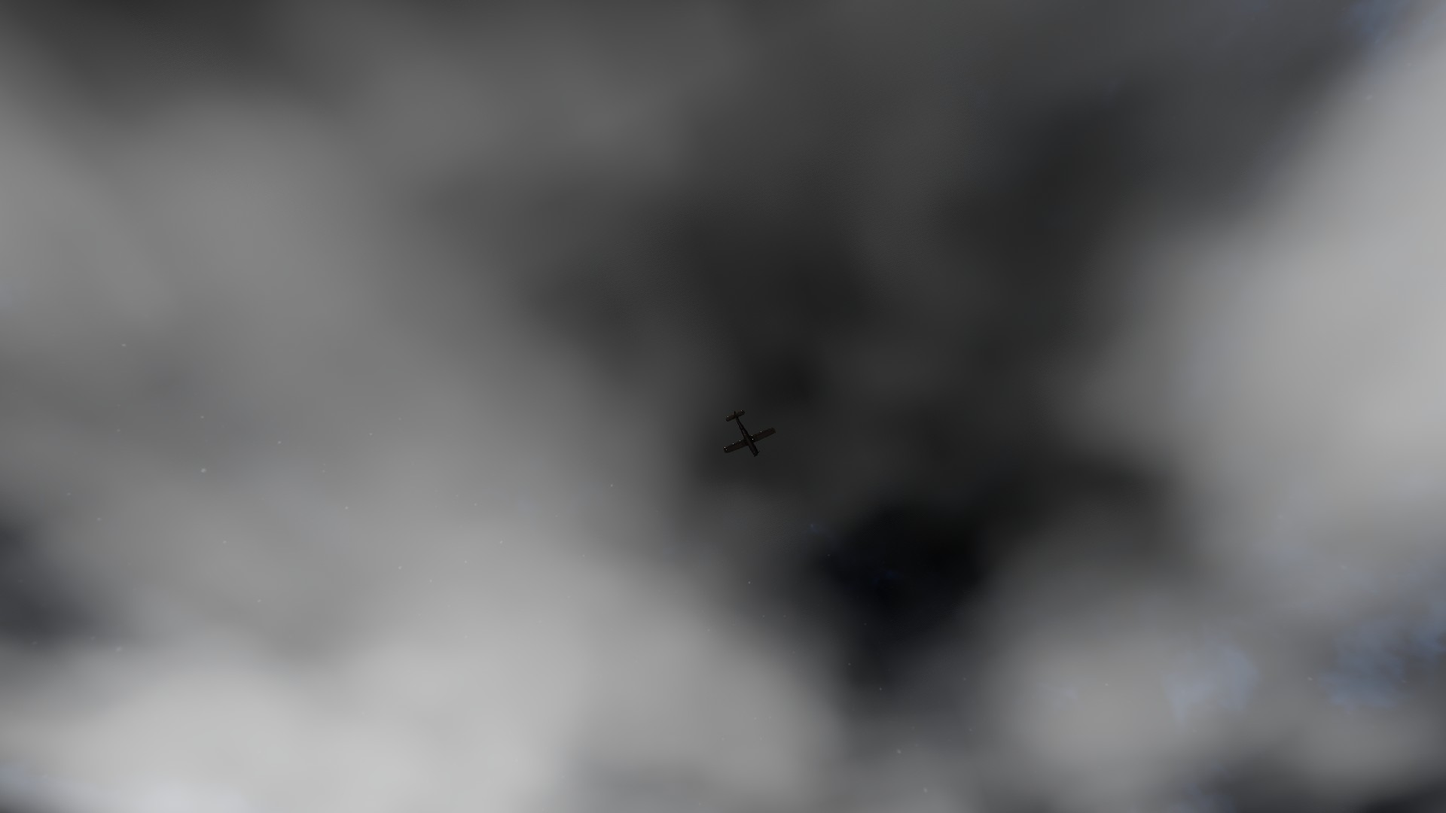drone_other: (724, 410, 776, 457)
